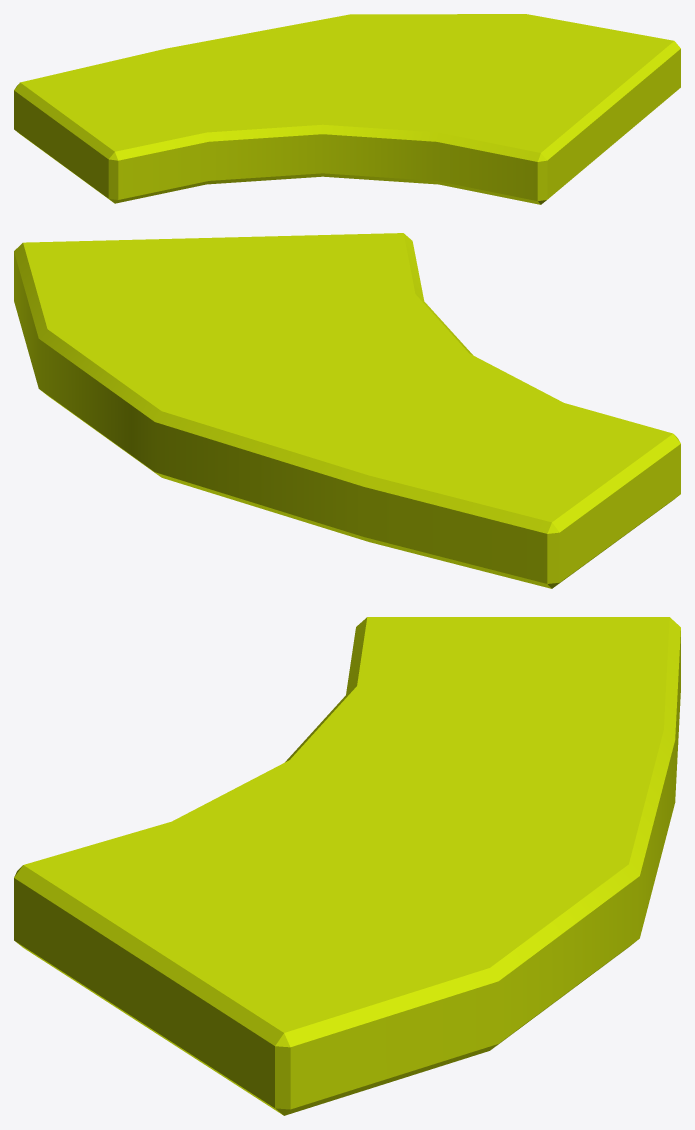
Rendered from Inlane_Turn.fbx.
The picture shows the model from 3 angles, top to bottom: view 1: azimuth 30°, elevation 25°; view 2: azimuth 150°, elevation 25°; view 3: azimuth 270°, elevation 25°; orthographic projection. The views are drawn at different scales.
Visible parts, largest first — view 1: Inlane_Turn; view 2: Inlane_Turn; view 3: Inlane_Turn.
Part boxes in pixels (left/top/right/bottom): Inlane_Turn: left=14, top=14, right=680, bottom=204; Inlane_Turn: left=14, top=233, right=680, bottom=588; Inlane_Turn: left=14, top=617, right=680, bottom=1115.
Bounding box in the file's own units: 3.12 × 0.2852 × 2.07.
